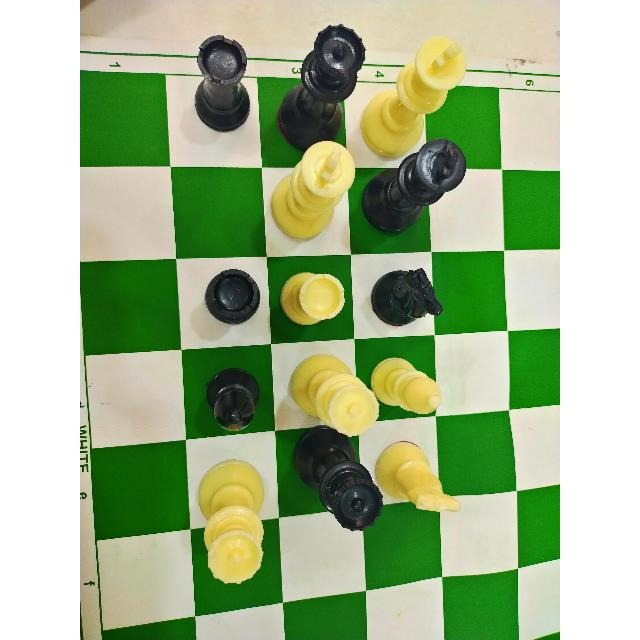black-bishop: (197, 359, 263, 435)
black-king: (359, 136, 469, 235)
black-knight: (367, 261, 442, 339)
black-queen: (280, 424, 388, 536), (277, 21, 367, 149)
black-rook: (186, 31, 254, 132), (194, 261, 263, 335)
white-bishop: (367, 354, 445, 423)
white-king: (362, 34, 472, 158), (268, 139, 356, 241)
white-knight: (371, 439, 467, 522)
white-queen: (196, 460, 272, 588), (281, 351, 381, 440)
white-rook: (275, 269, 346, 332)
